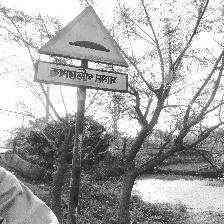Speed-breaker: (35, 4, 129, 93)
